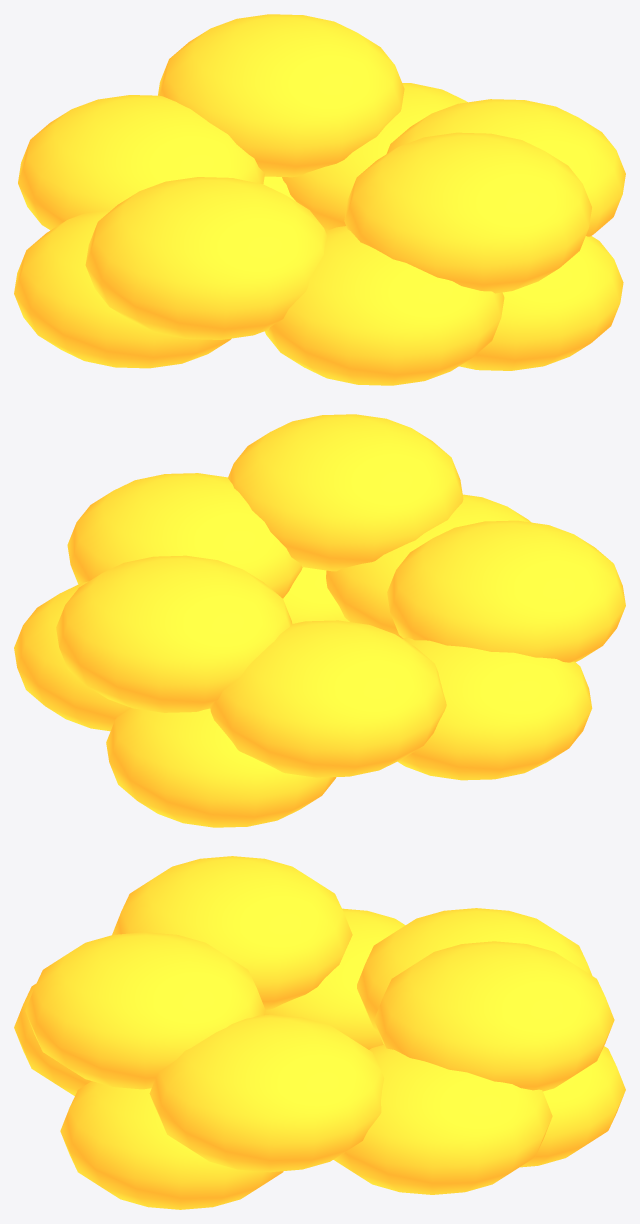
File: Mei_Skill2.fbx
The picture shows the model from 3 angles, top to bottom: view 1: azimuth 30°, elevation 25°; view 2: azimuth 150°, elevation 25°; view 3: azimuth 270°, elevation 25°; orthographic projection. The views are drawn at different scales.
Parts seen in each view (by area): view 1: MistMesh.007, MistMesh.009, MistMesh.008, MistMesh.004, MistMesh.005, MistMesh.002, MistMesh.001, MistMesh.006, MistMesh.003; view 2: MistMesh.005, MistMesh.008, MistMesh.009, MistMesh.007, MistMesh.002, MistMesh, MistMesh.006, MistMesh.003, MistMesh.004, MistMesh.001; view 3: MistMesh.006, MistMesh.008, MistMesh.009, MistMesh.007, MistMesh.003, MistMesh.001, MistMesh.005, MistMesh.002, MistMesh, MistMesh.004.
Part boxes in pixels (bbox=[...]): MistMesh.007: bbox=[85, 177, 327, 339]; MistMesh.009: bbox=[344, 132, 591, 293]; MistMesh.008: bbox=[158, 14, 404, 177]; MistMesh.004: bbox=[265, 226, 504, 385]; MistMesh.005: bbox=[18, 95, 264, 230]; MistMesh.002: bbox=[14, 210, 231, 368]; MistMesh.001: bbox=[459, 236, 623, 370]; MistMesh.006: bbox=[386, 99, 625, 236]; MistMesh.003: bbox=[282, 83, 467, 231]; MistMesh.005: bbox=[210, 620, 446, 777]; MistMesh.008: bbox=[56, 555, 292, 712]; MistMesh.009: bbox=[228, 414, 463, 571]; MistMesh.007: bbox=[387, 520, 625, 662]; MistMesh.002: bbox=[398, 637, 592, 780]; MistMesh: bbox=[106, 707, 336, 827]; MistMesh.006: bbox=[67, 473, 302, 598]; MistMesh.003: bbox=[14, 581, 130, 731]; MistMesh.004: bbox=[326, 494, 531, 638]; MistMesh.001: bbox=[283, 567, 349, 623]; MistMesh.006: bbox=[149, 1014, 384, 1172]; MistMesh.008: bbox=[374, 941, 614, 1091]; MistMesh.009: bbox=[25, 932, 265, 1089]; MistMesh.007: bbox=[112, 856, 352, 1010]; MistMesh.003: bbox=[333, 1045, 552, 1194]; MistMesh.001: bbox=[60, 1081, 283, 1209]; MistMesh.005: bbox=[357, 908, 592, 1030]; MistMesh.002: bbox=[264, 908, 405, 1049]; MistMesh: bbox=[520, 1046, 625, 1167]; MistMesh.004: bbox=[14, 984, 91, 1095].
Size of the model in its own units: 455 by 190 by 458.
